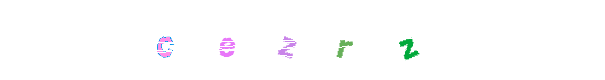C: (124, 0, 204, 80)
E: (189, 0, 269, 80)
R: (320, 0, 400, 80)
Z: (262, 0, 342, 80), (368, 0, 448, 80)
